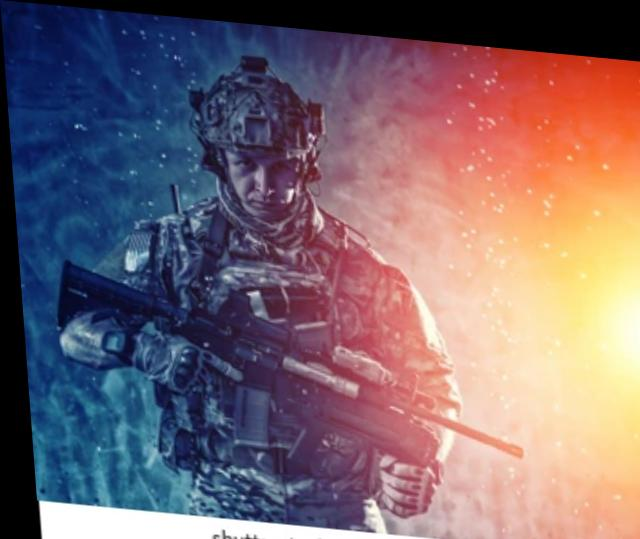other: (69, 26, 460, 511)
